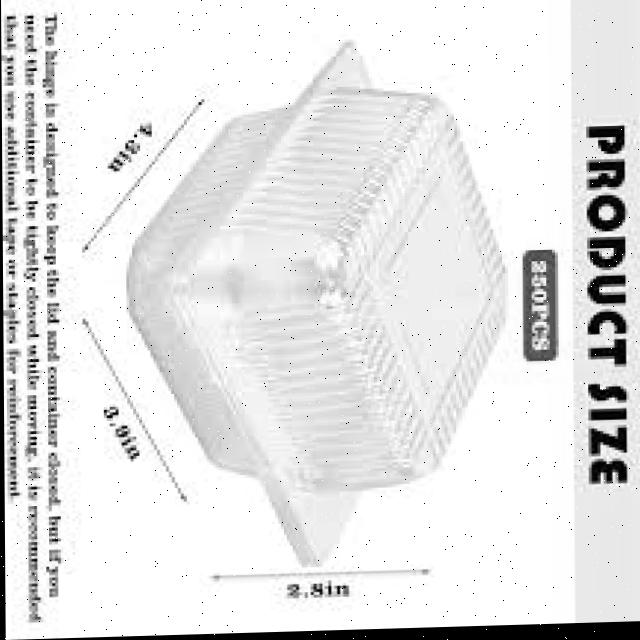disposable: (102, 51, 520, 568)
